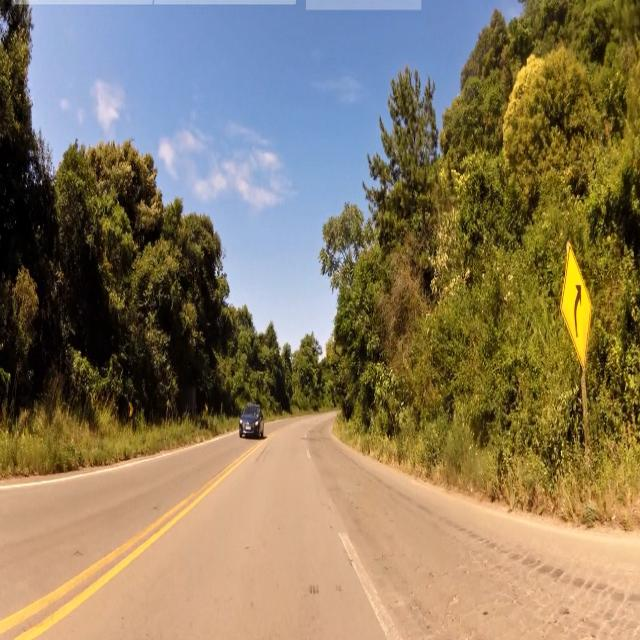A-2b: (560, 246, 592, 368)
